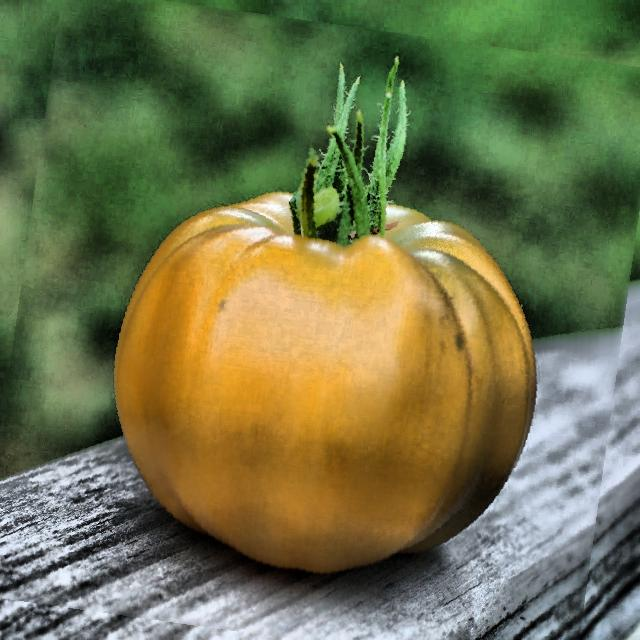tomato: (0, 5, 639, 640)
